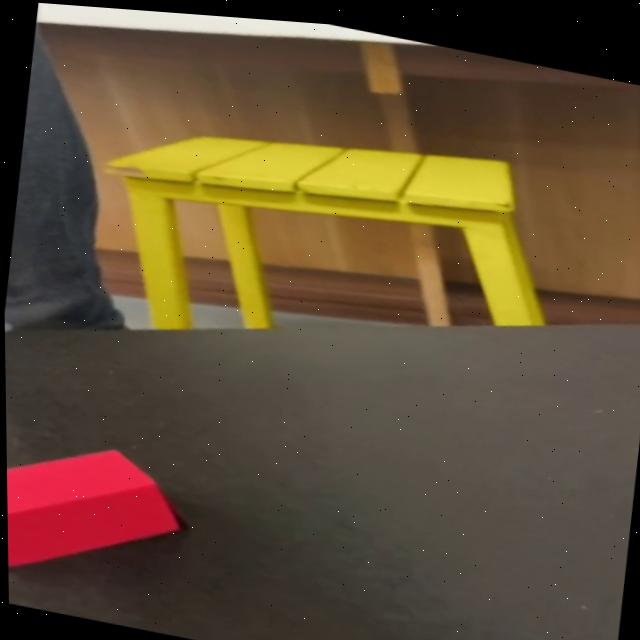red block: (6, 424, 189, 600)
